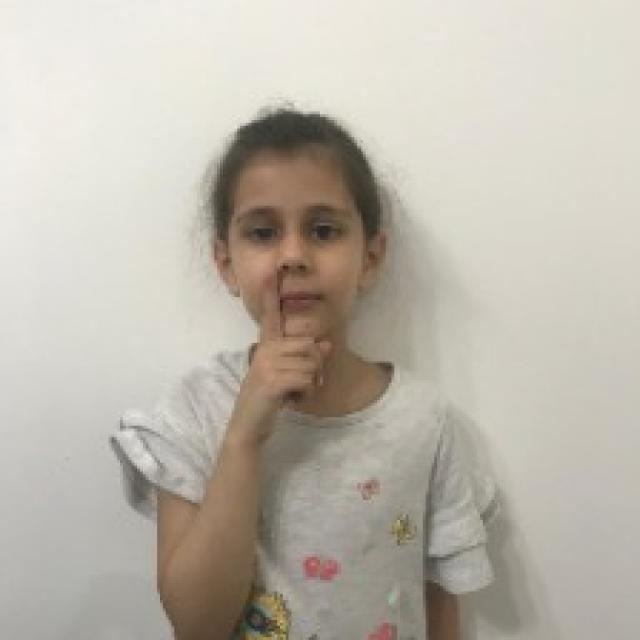mother: (231, 266, 338, 427)
